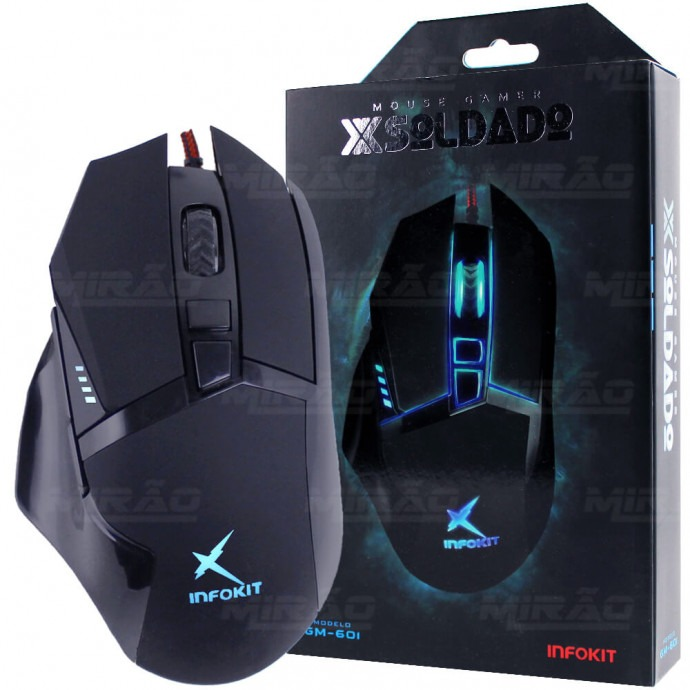mouse: (5, 128, 339, 689)
